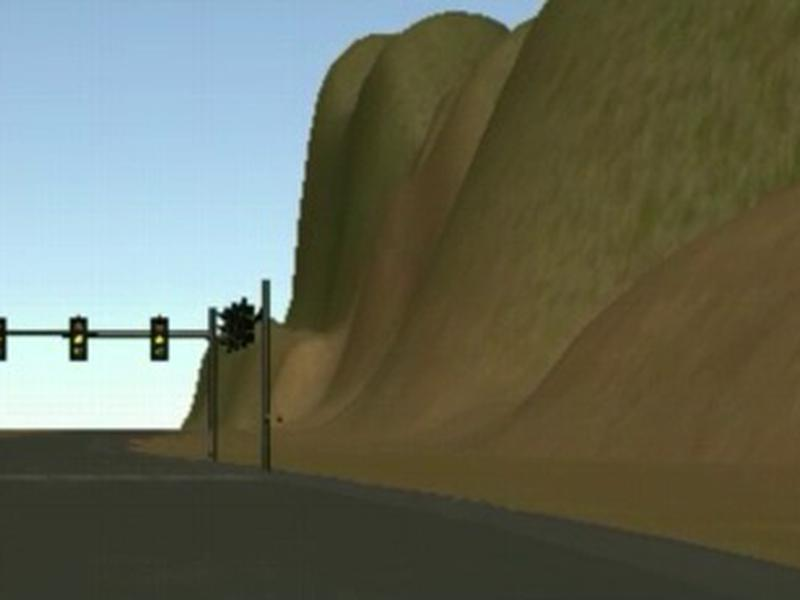Yellow: (150, 316, 168, 362), (69, 316, 87, 361)
